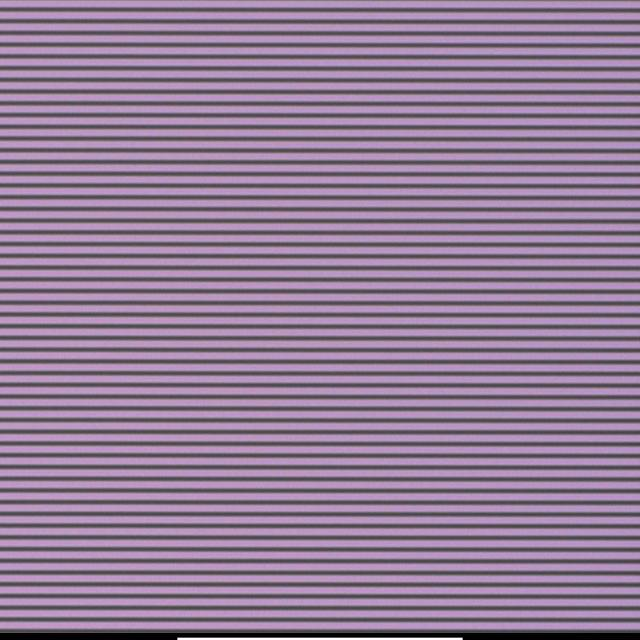nonvisual: (302, 286, 311, 298)
